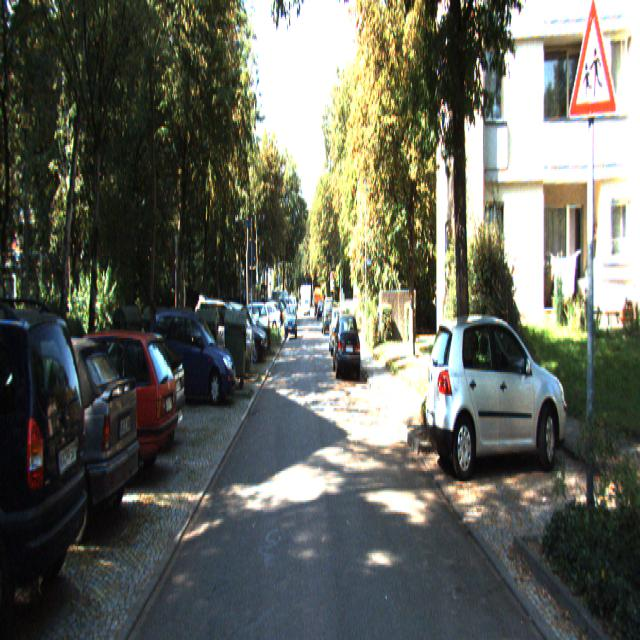Car: (0, 287, 94, 638), (0, 332, 143, 552), (28, 319, 181, 497), (425, 310, 572, 484), (149, 306, 238, 411), (217, 304, 269, 367), (332, 313, 362, 382), (329, 308, 348, 356)
